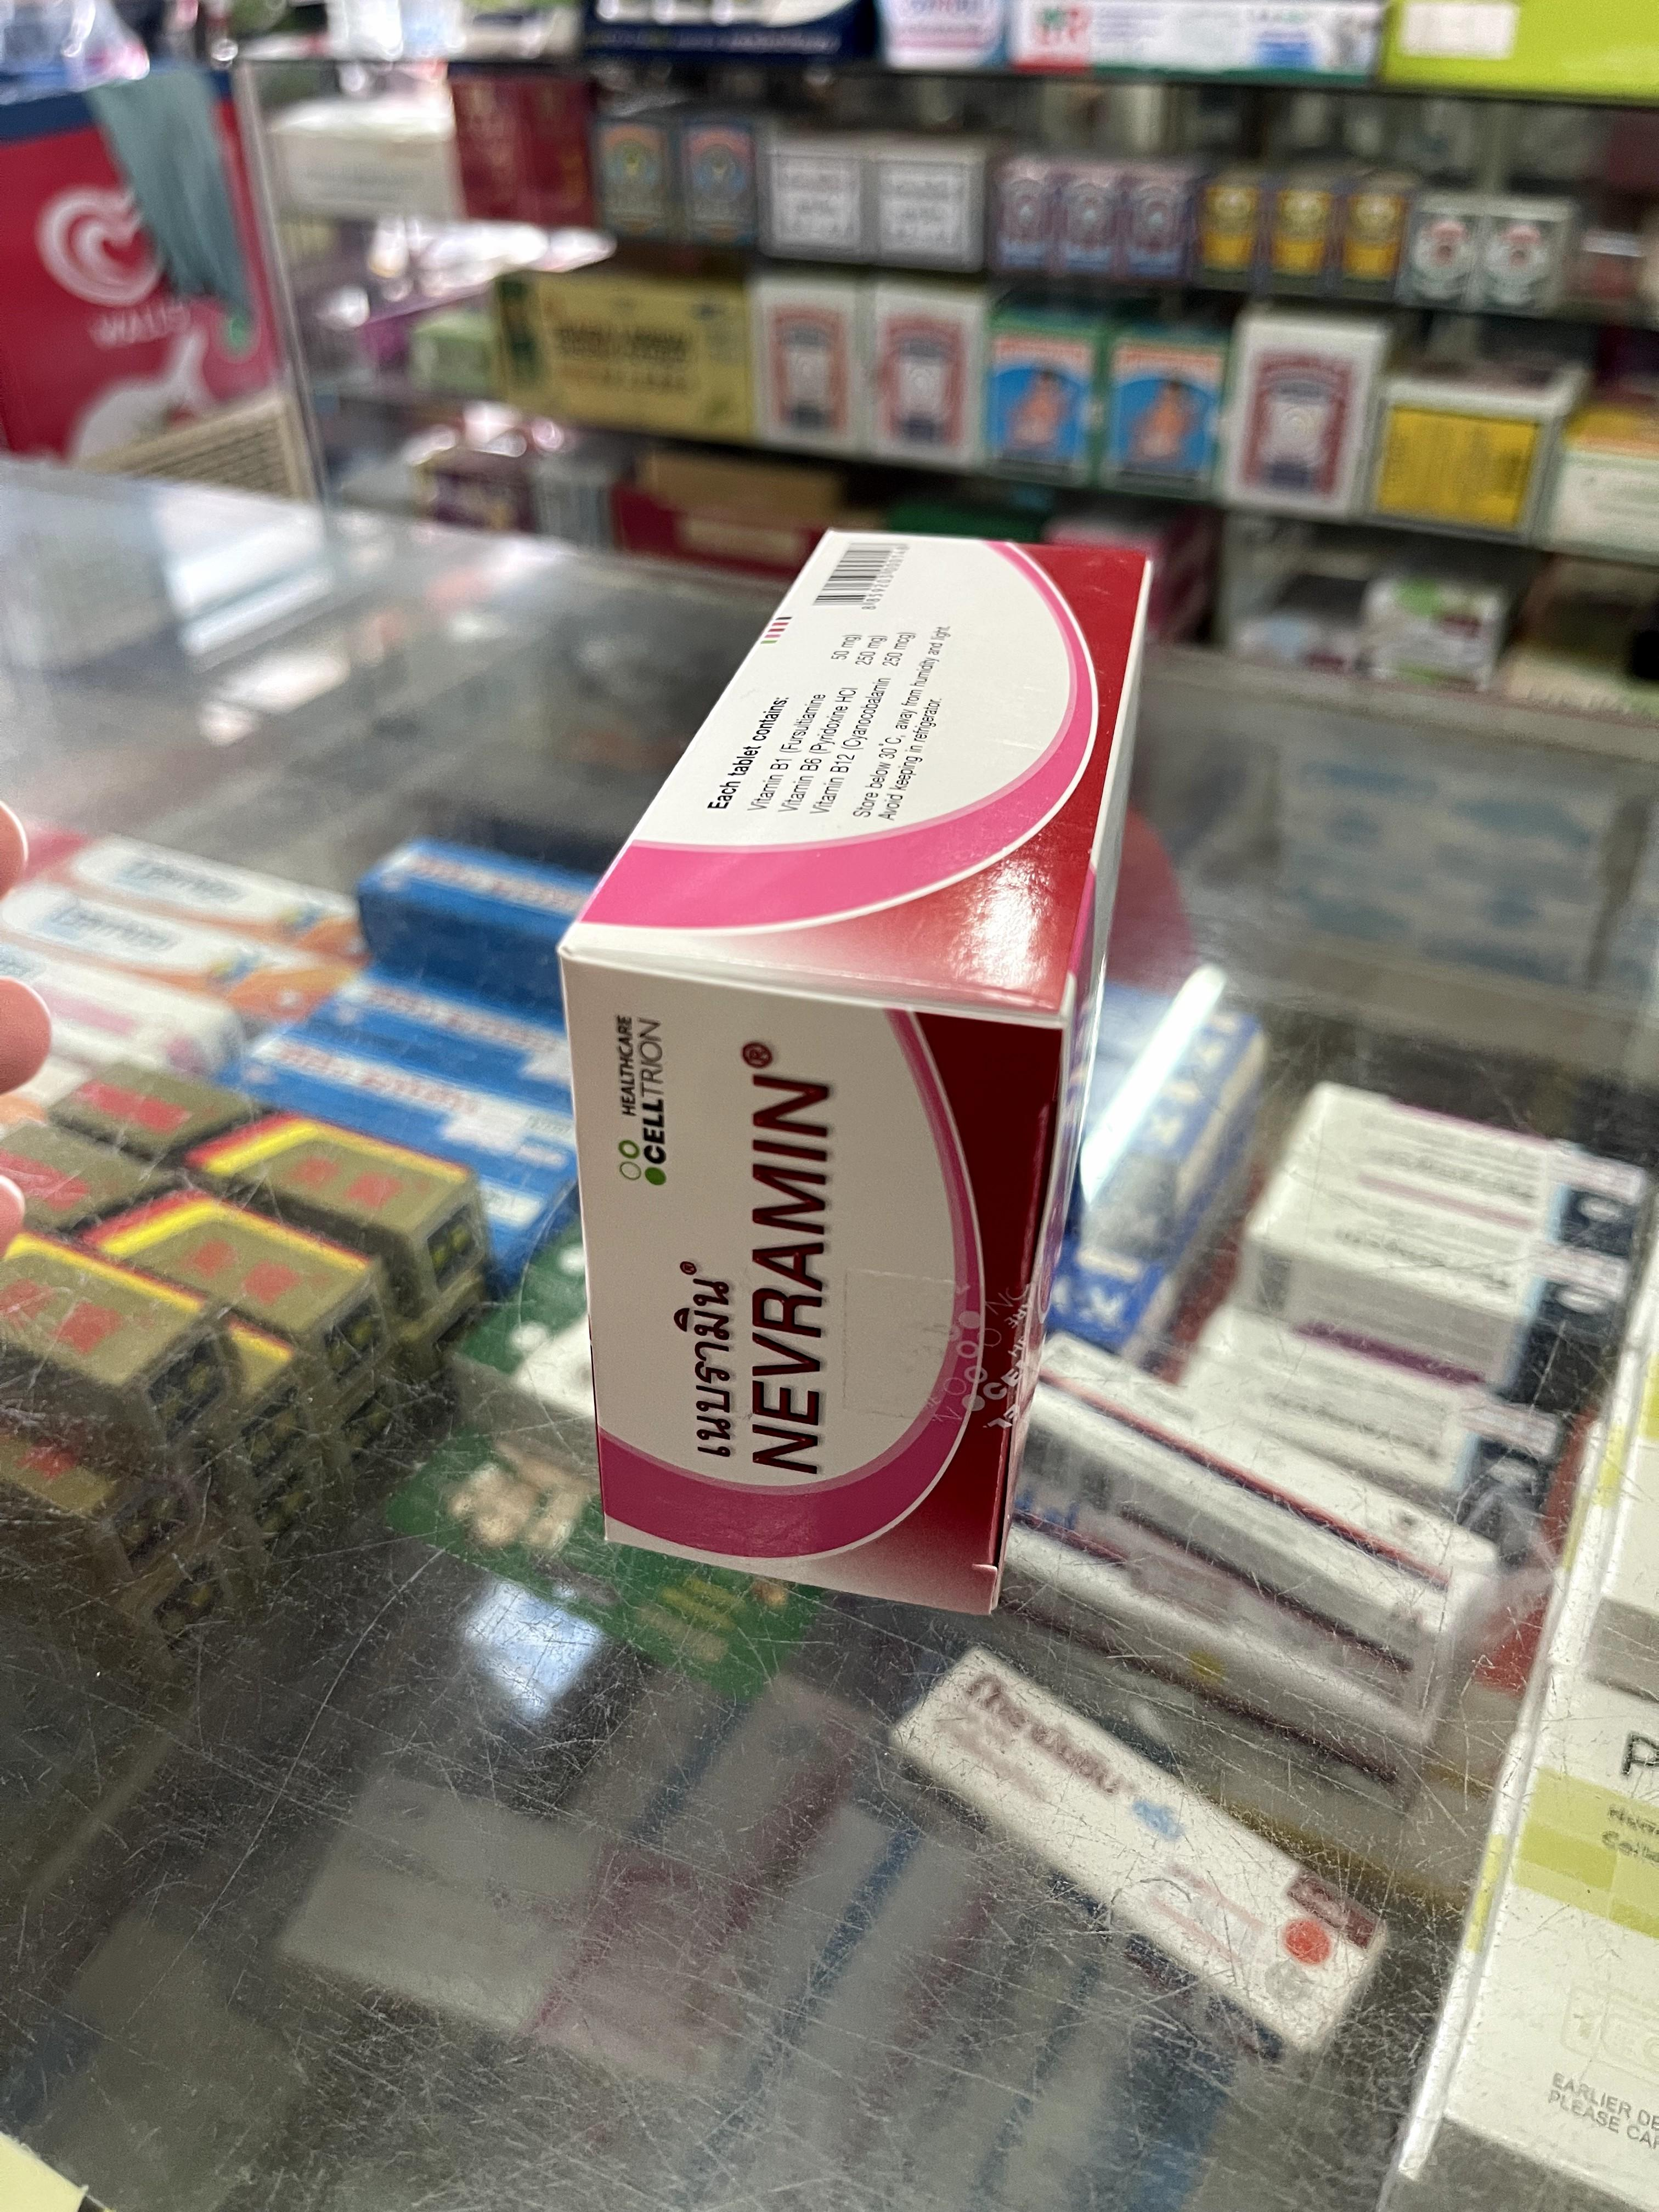Nevramin: (565, 535, 1143, 1616)
